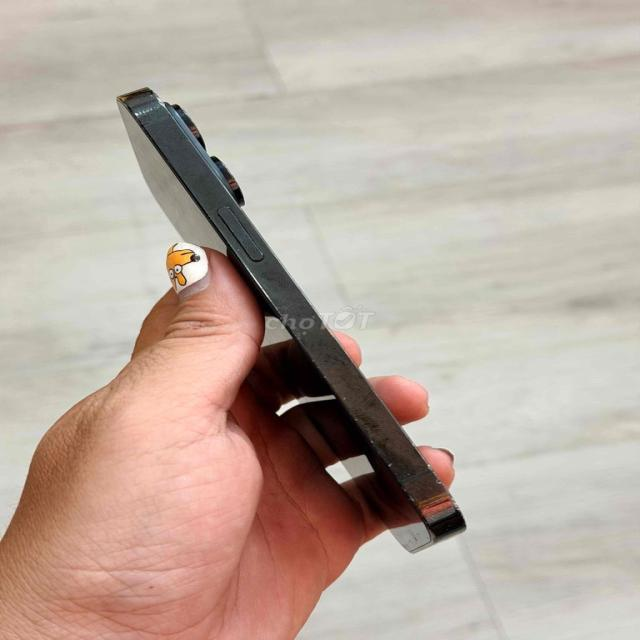physical_damage: (425, 456, 467, 511)
scratch: (213, 204, 275, 270), (347, 404, 382, 451), (310, 351, 339, 385), (271, 295, 292, 318), (142, 89, 161, 108), (388, 462, 409, 479)
